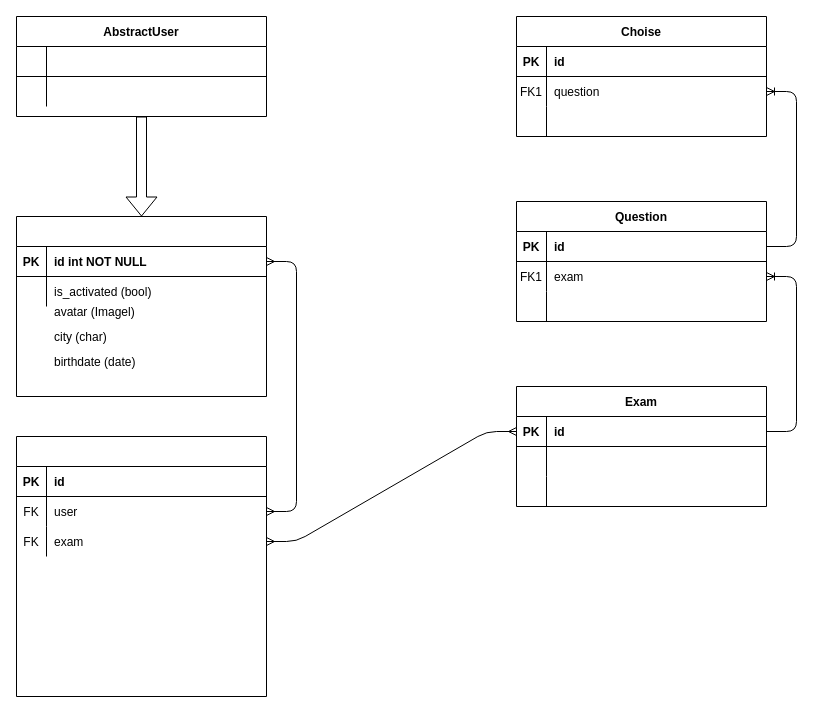
Image size: 813x713. Some labels were removed from this diagram. The shapes that lost their labels are listed below. From the top down, each one's box as (x1, y1, x2, y2) in pixels, then its label:
(16, 216, 266, 396): CustomUser
(16, 436, 266, 696): Result
